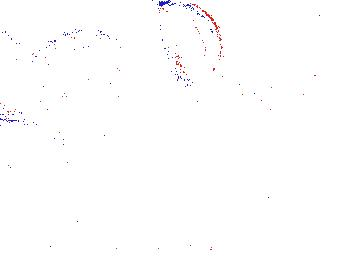moon jellyfish: (214, 1, 328, 102), (24, 30, 147, 100), (27, 81, 122, 144), (158, 2, 222, 83), (1, 30, 28, 118)
